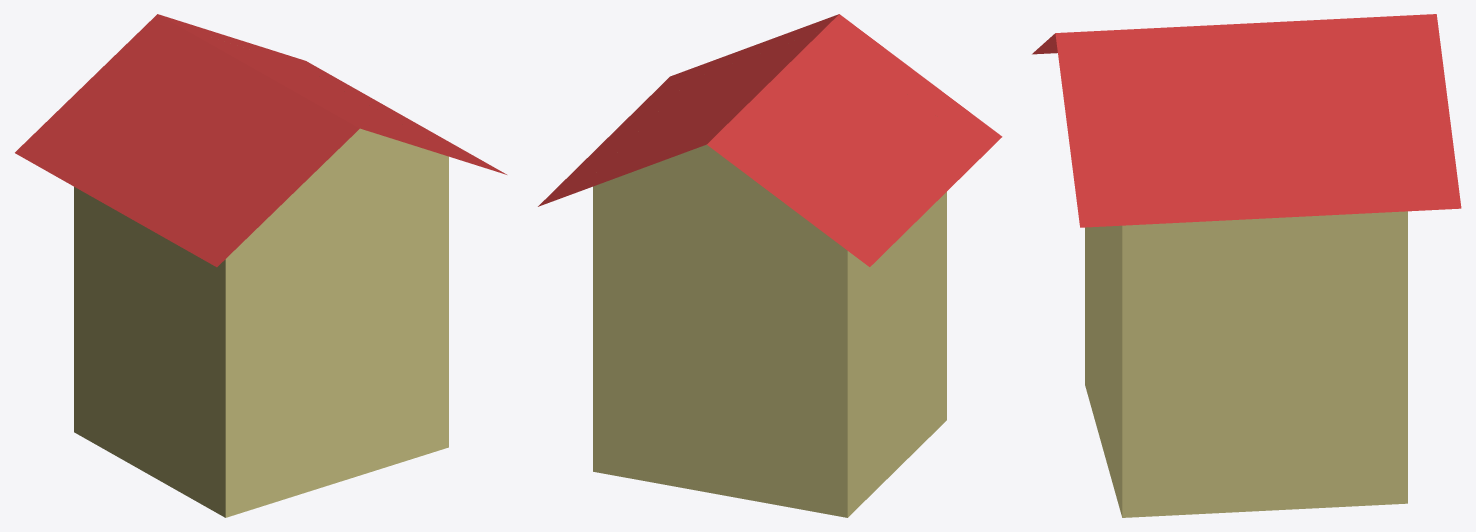
3 renders of one model, left to right at view 1: azimuth 30°, elevation 25°; view 2: azimuth 150°, elevation 25°; view 3: azimuth 270°, elevation 25°, orthographic. The views are drawn at different scales.
Visible parts, largest first — view 1: group_5, group_3, group_4; view 2: group_5, group_3, group_4; view 3: group_5, group_3, group_4.
Part boxes in pixels (x1,y1,x2,y2): group_5: [74, 128, 448, 517]; group_3: [74, 14, 447, 261]; group_4: [15, 14, 506, 267]; group_5: [593, 144, 946, 517]; group_3: [593, 14, 946, 221]; group_4: [538, 14, 1001, 266]; group_5: [1085, 211, 1407, 517]; group_3: [1032, 16, 1461, 227]; group_4: [1055, 14, 1460, 227].
Size of the model in its own units: 14.17 by 13.38 by 14.39.
